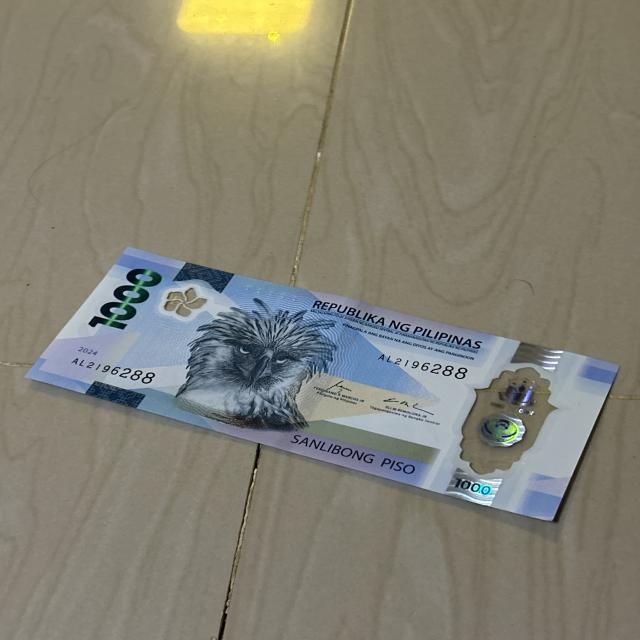clear_window: (462, 355, 550, 491)
eagle: (189, 300, 322, 426)
sampaguita: (162, 288, 205, 317)
